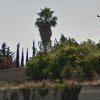Palm tree: (26, 5, 72, 50)
